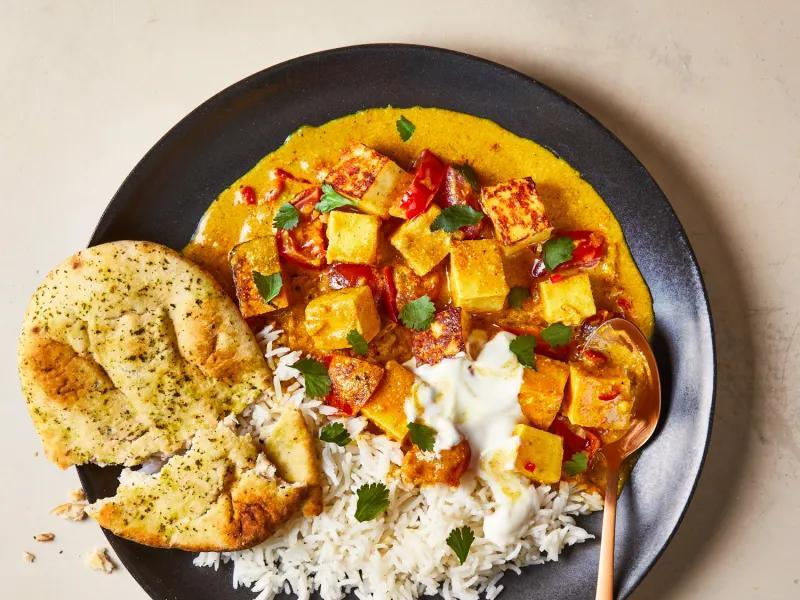paneer: (299, 145, 575, 323)
